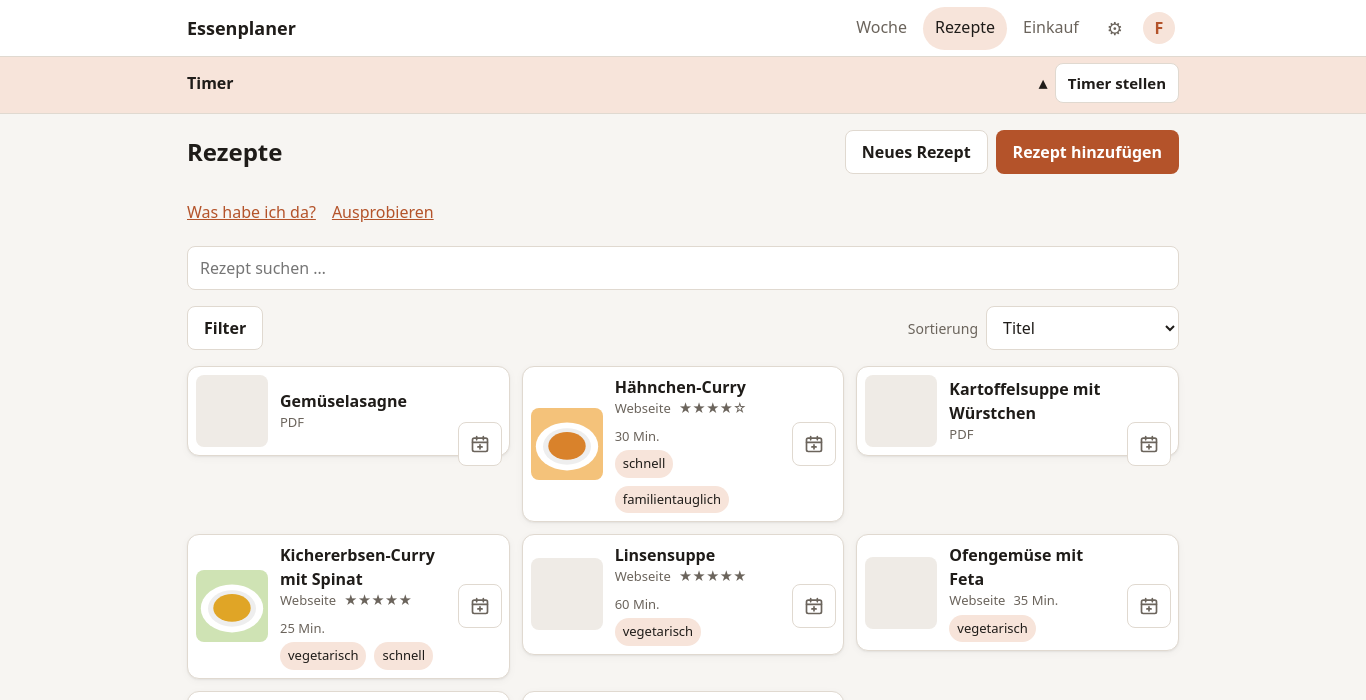
Test: Rezept per URL importieren › importiert aus dem Katalog und zeigt danach das Rezept
Click the button "Rezept hinzufügen" at (1087, 152), box [996,130,1179,174]
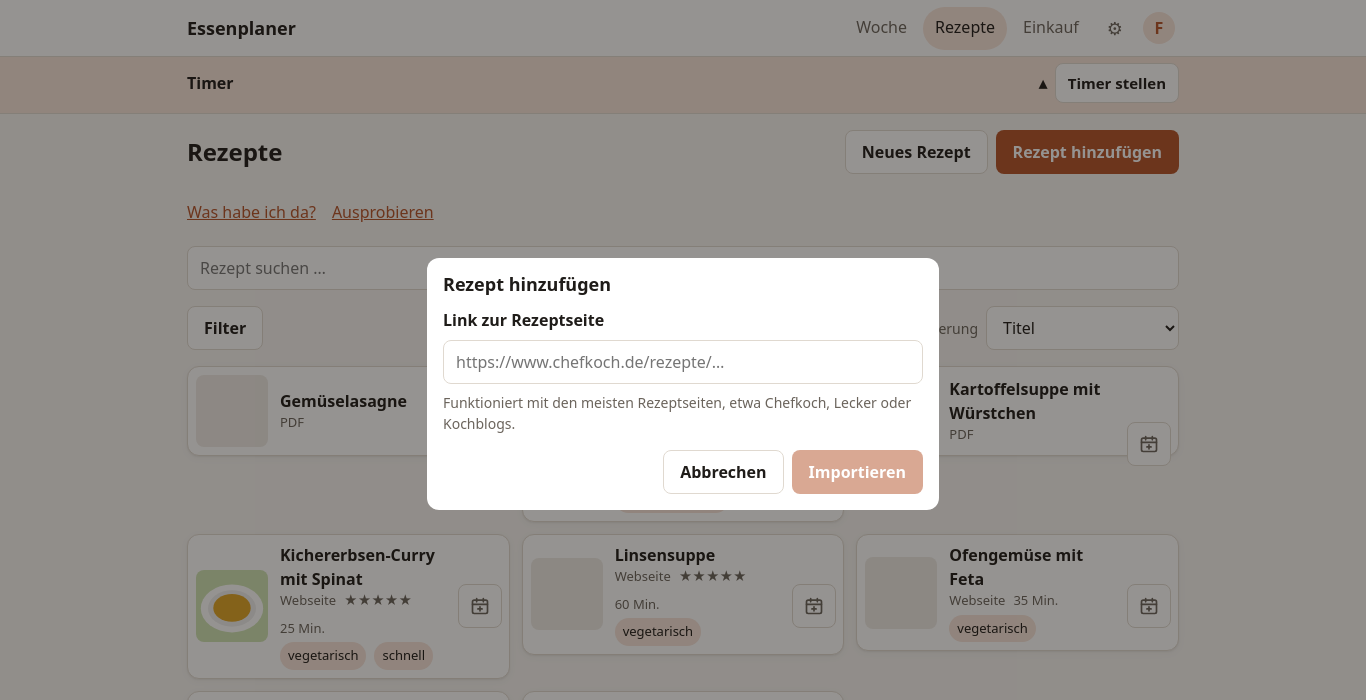
Type "https://example.com/rezepte/kuerbissuppe" into the field labelled "Link zur Rezeptseite" at (683, 362), box [443,340,923,384]
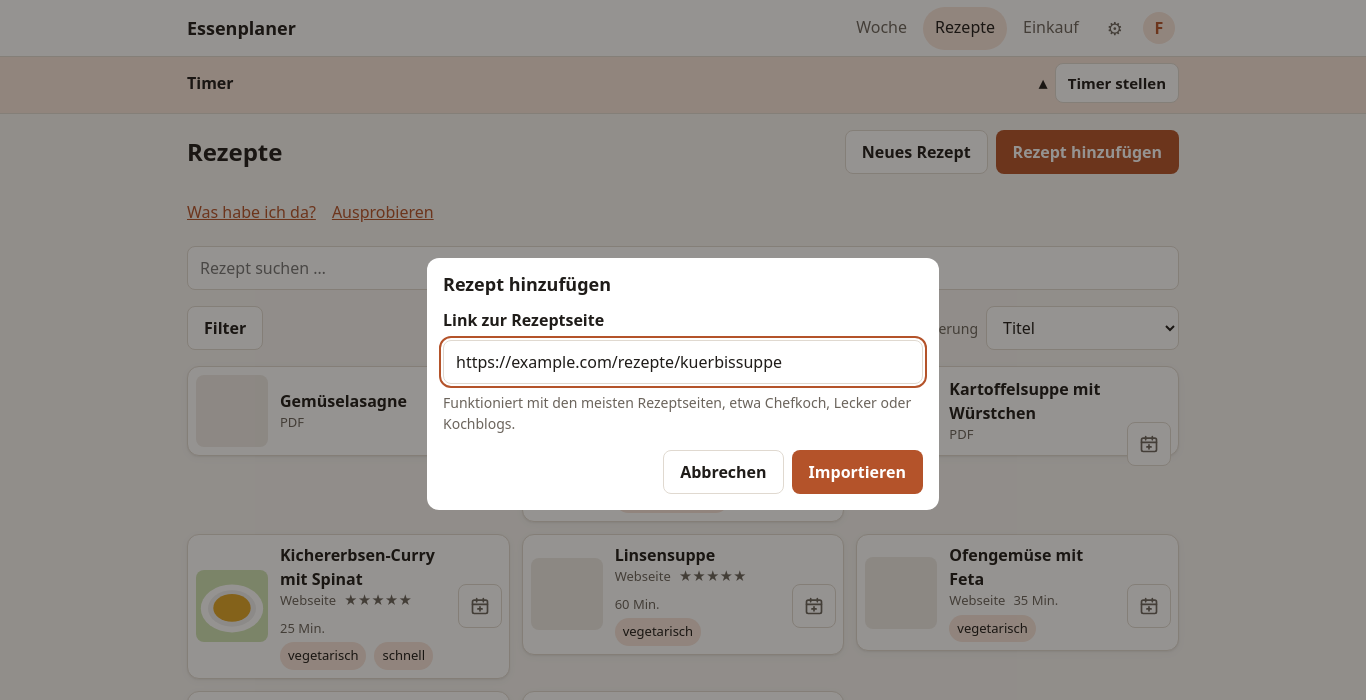
Click the button "Importieren" at (857, 472), box [792,450,923,494]
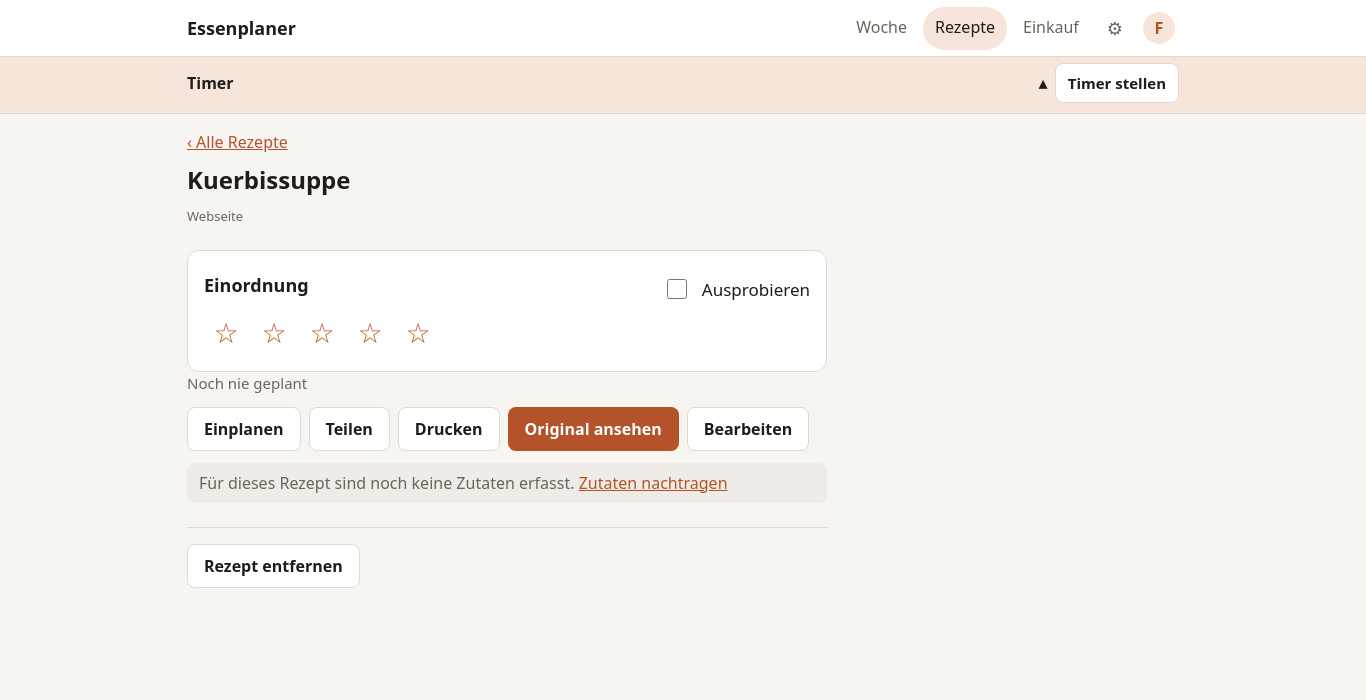
Now the heading "Kuerbissuppe" is shown, box [187,163,350,196]
